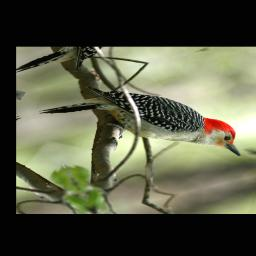Woodpecker: (32, 63, 251, 191)
